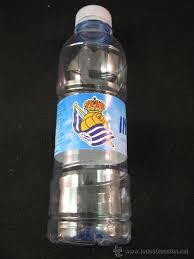Botella: (49, 5, 130, 243)
